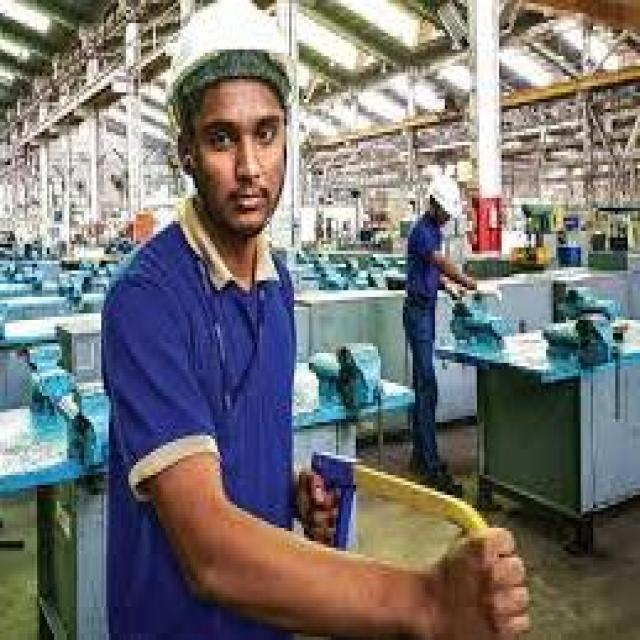Safety-Helmet: (146, 1, 321, 119), (420, 165, 470, 228)
